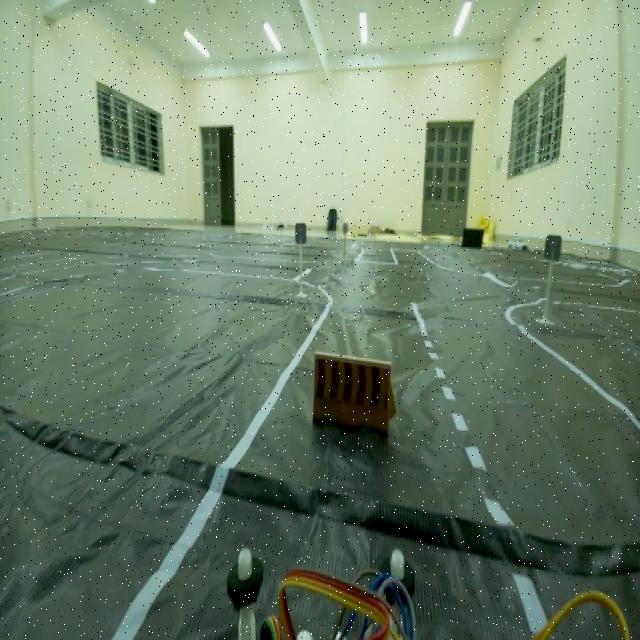roadblock: (304, 341, 416, 456)
